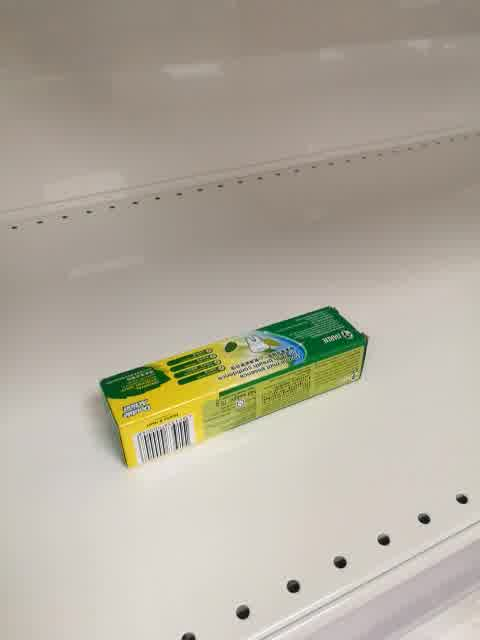toothpaste: (99, 306, 370, 469)
